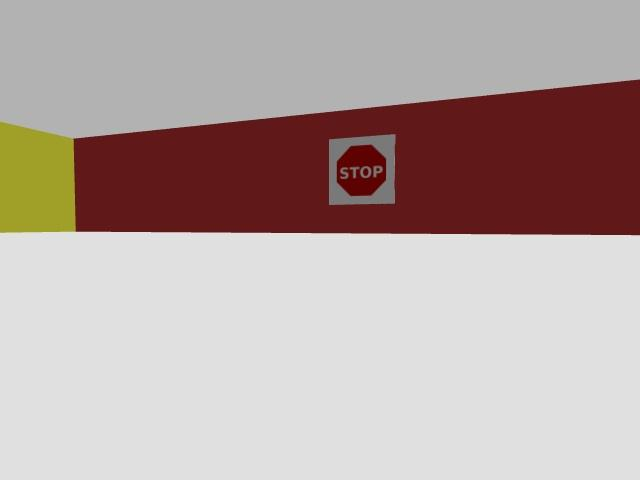stopsign: (329, 134, 394, 204)
